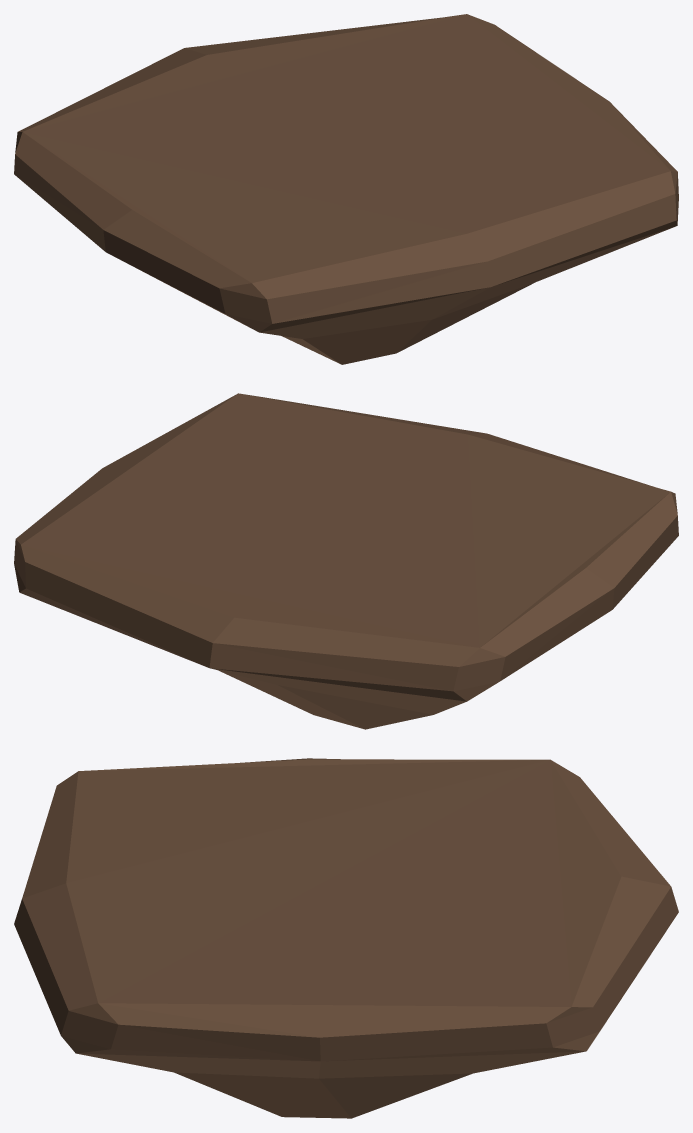
Rendered from Rock-Island-L1.fbx.
3 views of the same model, one above another, from view 1: azimuth 30°, elevation 25°; view 2: azimuth 150°, elevation 25°; view 3: azimuth 270°, elevation 25° (orthographic). The views are drawn at different scales.
Parts seen in each view (by area): view 1: Tikei; view 2: Tikei; view 3: Tikei.
Boxes of the visible parts, x1,y1,x2,y2 form: Tikei: [14, 14, 678, 364]; Tikei: [14, 393, 678, 729]; Tikei: [14, 758, 678, 1118].
Size of the model in its own units: 5802 by 2132 by 5841.
